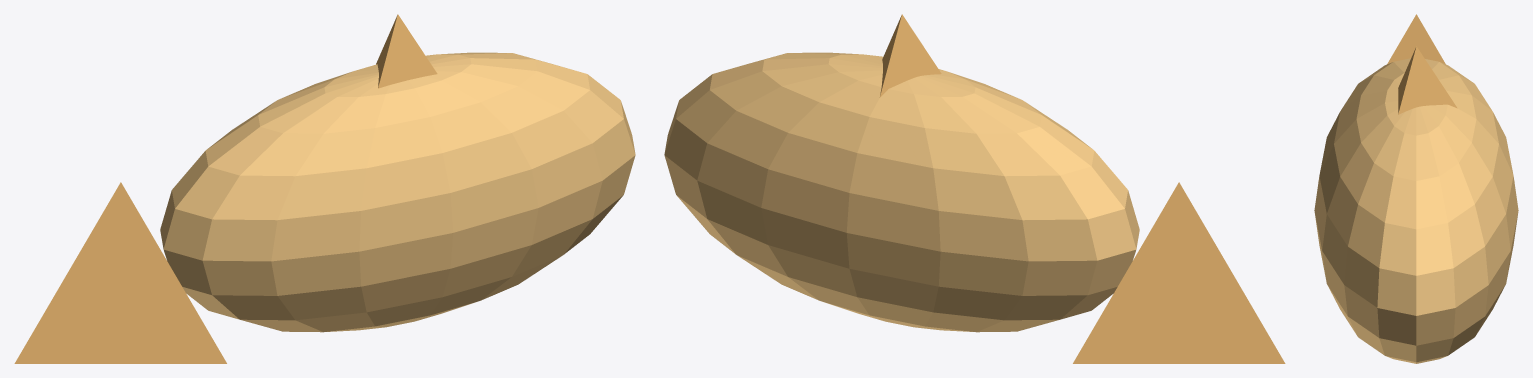
File: fish.glb
3 views of the same model, side by side, from view 1: azimuth 30°, elevation 25°; view 2: azimuth 150°, elevation 25°; view 3: azimuth 270°, elevation 25° (orthographic). The views are drawn at different scales.
Visible parts, largest first — view 1: Body, Tail, Dorsal; view 2: Body, Tail, Dorsal; view 3: Body, Dorsal, Tail.
Boxes of the visible parts, bbox=[...] form: Body: bbox=[160, 52, 635, 332]; Tail: bbox=[14, 182, 226, 363]; Dorsal: bbox=[376, 14, 437, 88]; Body: bbox=[664, 52, 1139, 332]; Tail: bbox=[1073, 182, 1285, 363]; Dorsal: bbox=[879, 14, 941, 97]; Body: bbox=[1314, 58, 1518, 363]; Dorsal: bbox=[1398, 46, 1457, 114]; Tail: bbox=[1318, 14, 1514, 181].
Size of the model in its own units: 0.29 by 0.135 by 0.09.
